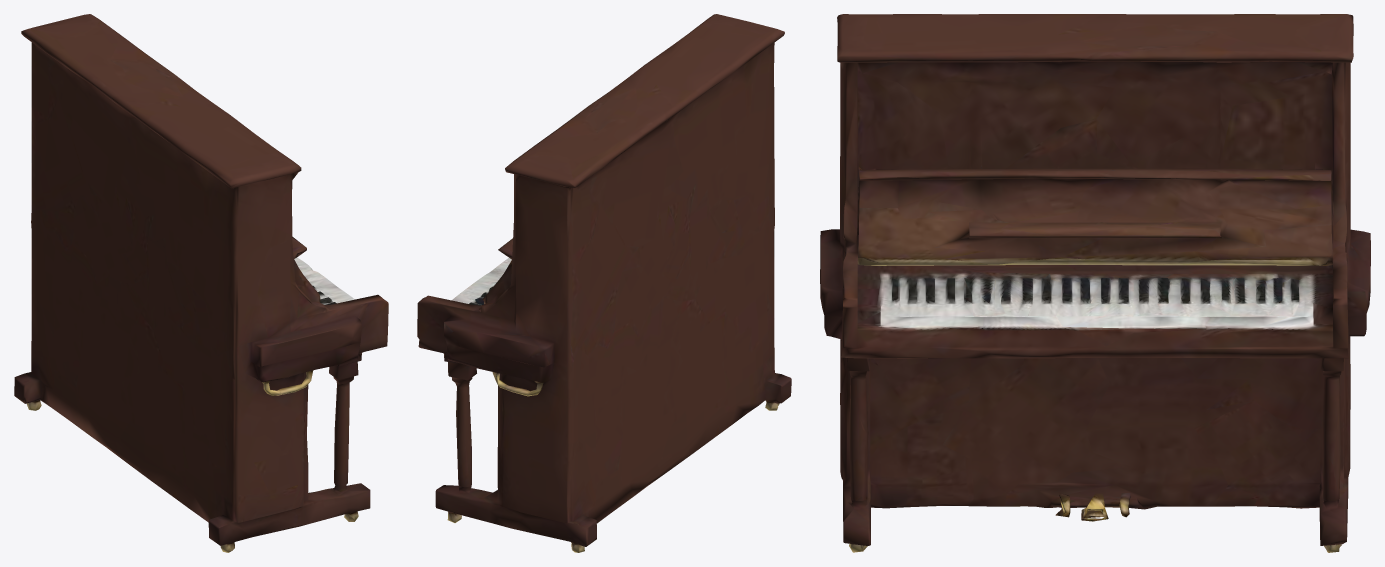
Rendered from piano-v2.glb.
The picture shows the model from 3 angles, left to right: view 1: azimuth 30°, elevation 25°; view 2: azimuth 150°, elevation 25°; view 3: azimuth 270°, elevation 25°; orthographic projection. The views are drawn at different scales.
Parts seen in each view (by area): view 1: prop__piano; view 2: prop__piano; view 3: prop__piano.
Boxes of the visible parts, bbox=[...] form: prop__piano: bbox=[14, 14, 388, 552]; prop__piano: bbox=[417, 14, 791, 552]; prop__piano: bbox=[820, 14, 1370, 552].
Bounding box in the file's own units: 0.6349 × 1.35 × 1.45.
Materials: 1 (1 with a texture image).
